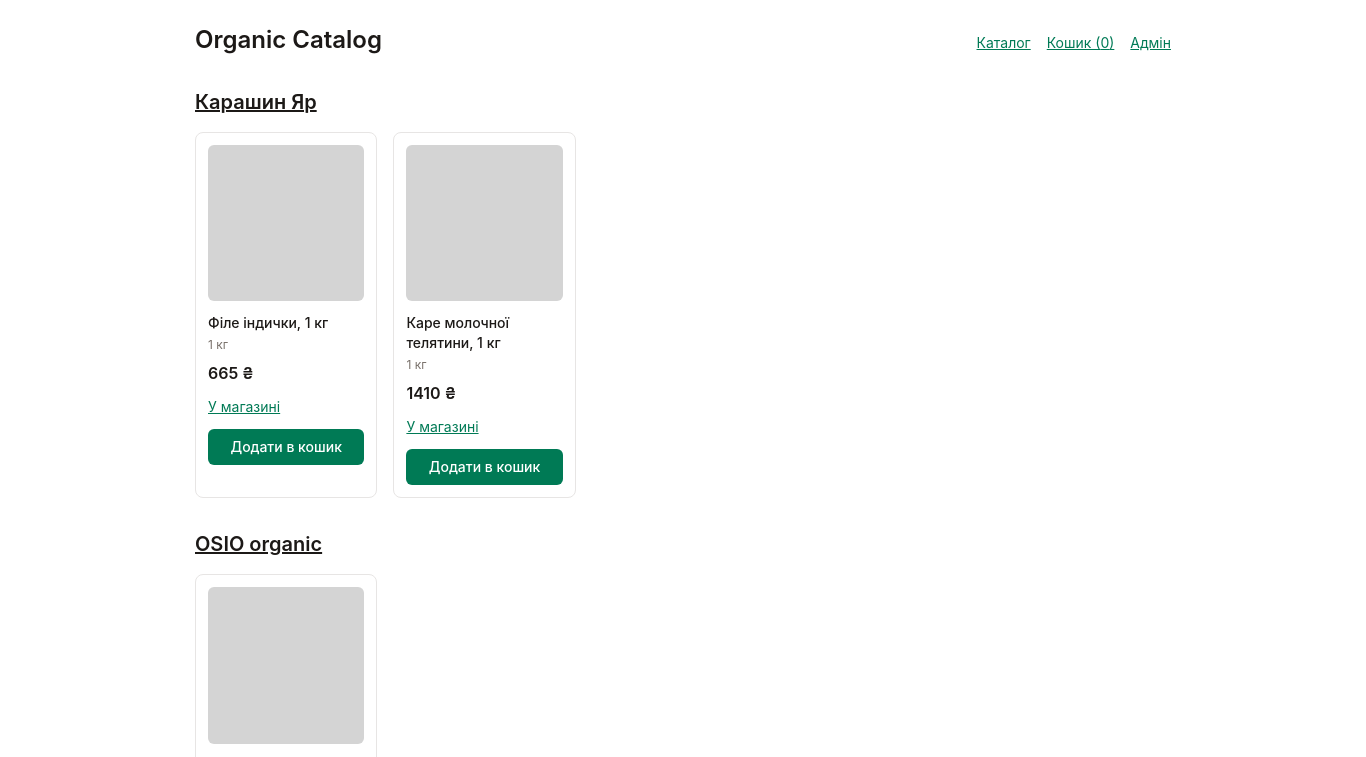
Test case: Add fails
The width and height of the screenshot is (1366, 757).
What coordinates should you click on to do the following:
click the button "Додати в кошик" below "Філе індички, 1 кг"
I would click on:
 (286, 447)
Its box is [208, 429, 364, 465].
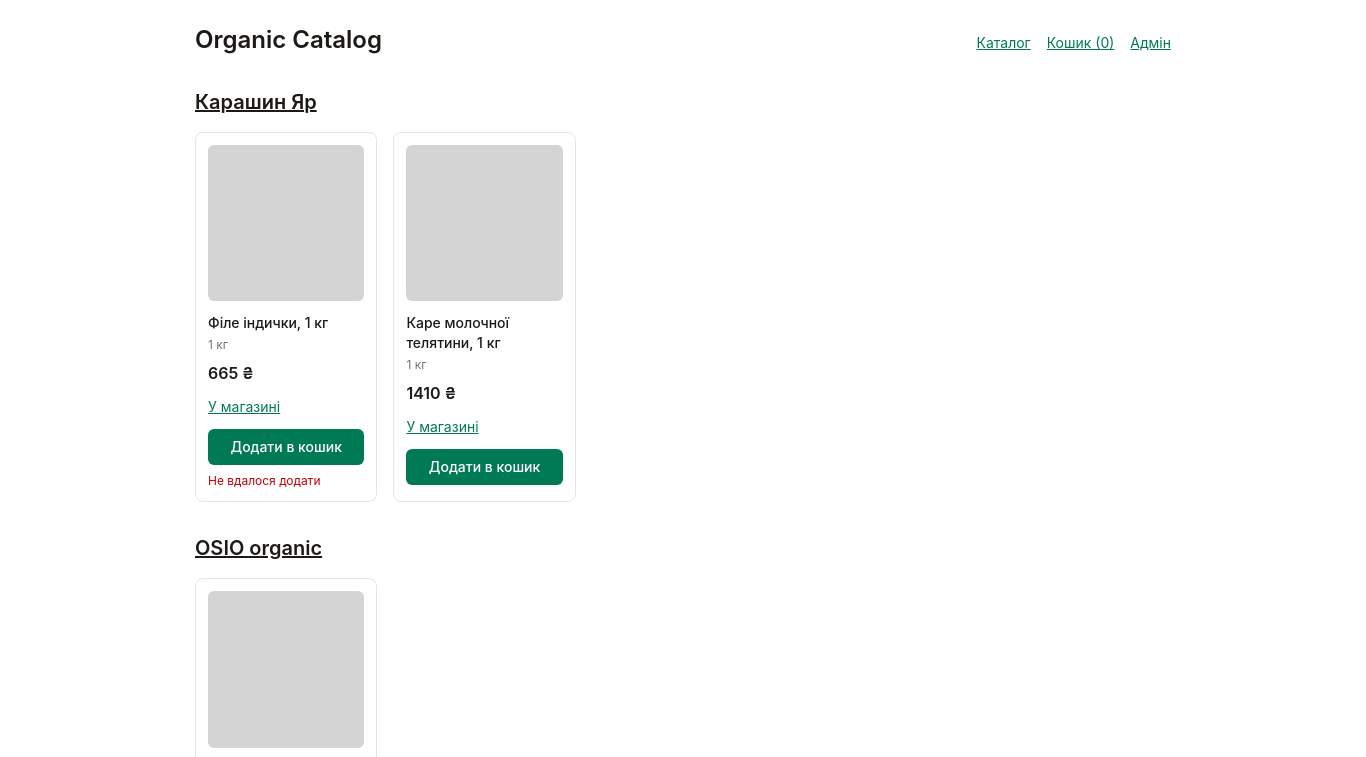
Expected: the message reads "Не вдалося додати", [208, 473, 320, 488]
